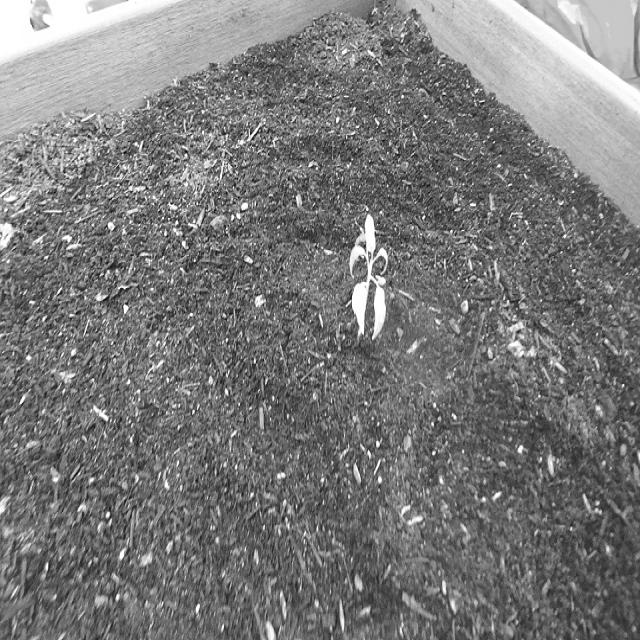Healthy: (340, 202, 398, 366)
